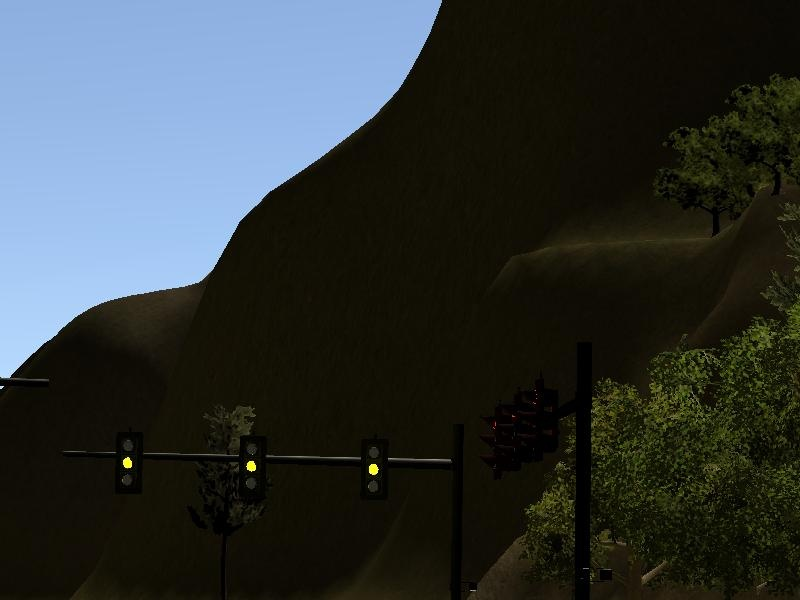YELLOW: (111, 428, 146, 494), (236, 431, 267, 496), (360, 438, 386, 499)
